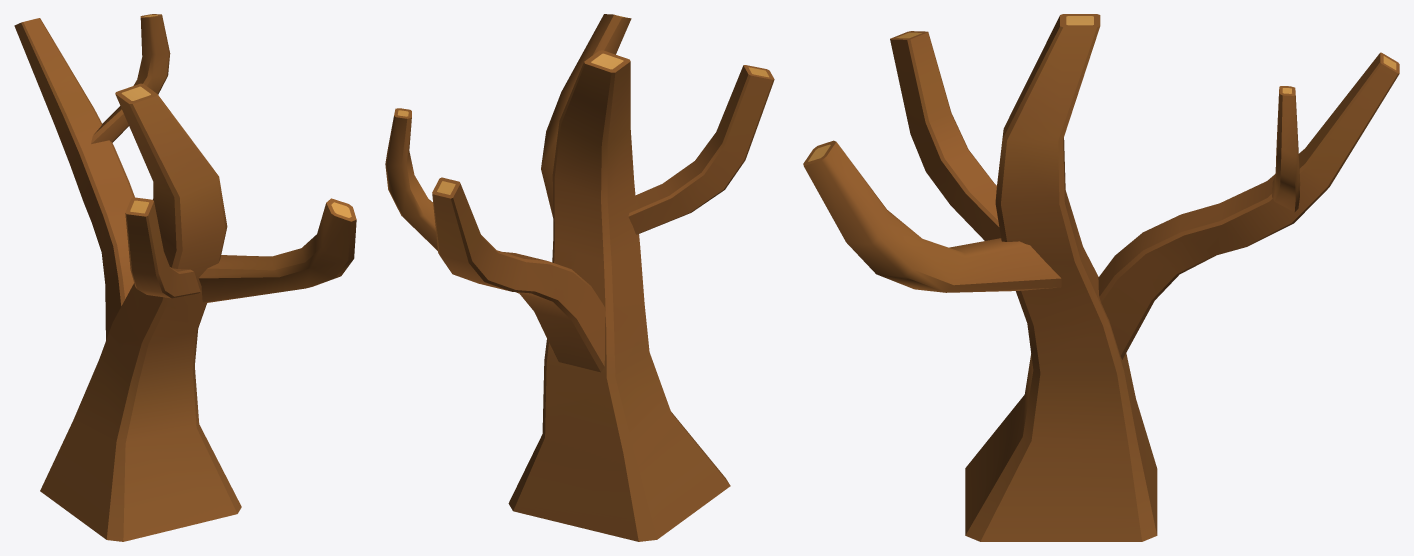
The model's file is Tree_4_4.glb.
3 views of the same model, side by side, from view 1: azimuth 30°, elevation 25°; view 2: azimuth 150°, elevation 25°; view 3: azimuth 270°, elevation 25° (orthographic). The views are drawn at different scales.
Visible parts, largest first — view 1: Tree_4_4; view 2: Tree_4_4; view 3: Tree_4_4.
Boxes of the visible parts, box(x1,y1,x2,y2) form: Tree_4_4: box(14, 14, 356, 541); Tree_4_4: box(385, 14, 774, 541); Tree_4_4: box(803, 14, 1399, 541).
Bounding box in the file's own units: 1.53 × 2.81 × 3.13.
1 material, 1 textured.
